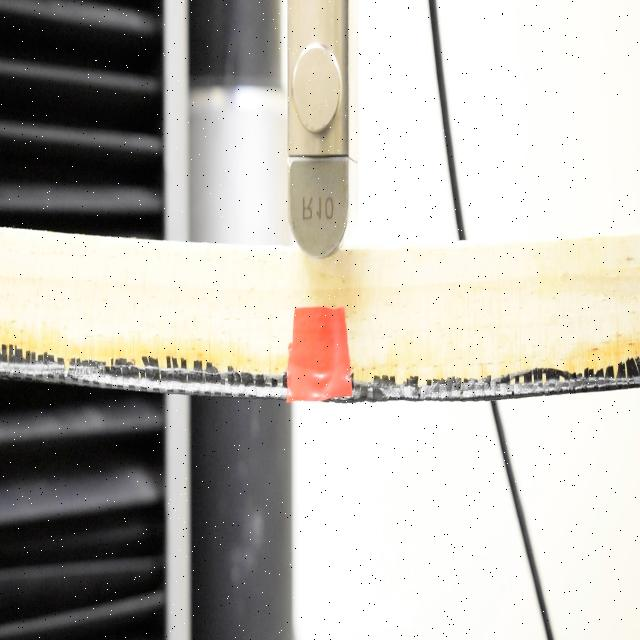wood: (1, 234, 639, 405)
